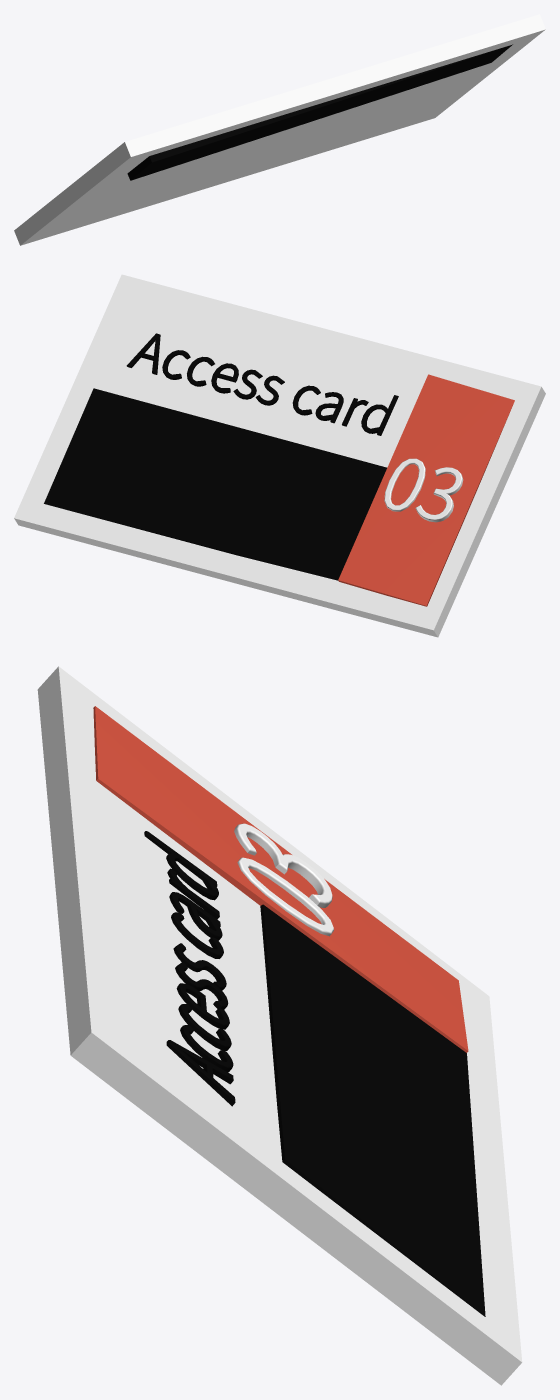
Rendered from Keycard Access L3.fbx.
3 views of the same model, one above another, from view 1: azimuth 30°, elevation 25°; view 2: azimuth 150°, elevation 25°; view 3: azimuth 270°, elevation 25° (orthographic). The views are drawn at different scales.
Visible parts, largest first — view 1: e0a3a04c-f086-4269-872e-698645f5665f; view 2: e0a3a04c-f086-4269-872e-698645f5665f; view 3: e0a3a04c-f086-4269-872e-698645f5665f.
Boxes of the visible parts, left/top/right/bottom form: e0a3a04c-f086-4269-872e-698645f5665f: left=14, top=14, right=545, bottom=245; e0a3a04c-f086-4269-872e-698645f5665f: left=14, top=274, right=545, bottom=637; e0a3a04c-f086-4269-872e-698645f5665f: left=37, top=666, right=522, bottom=1385.
Bounding box in the file's own units: 15834 × 7117 × 8058.
